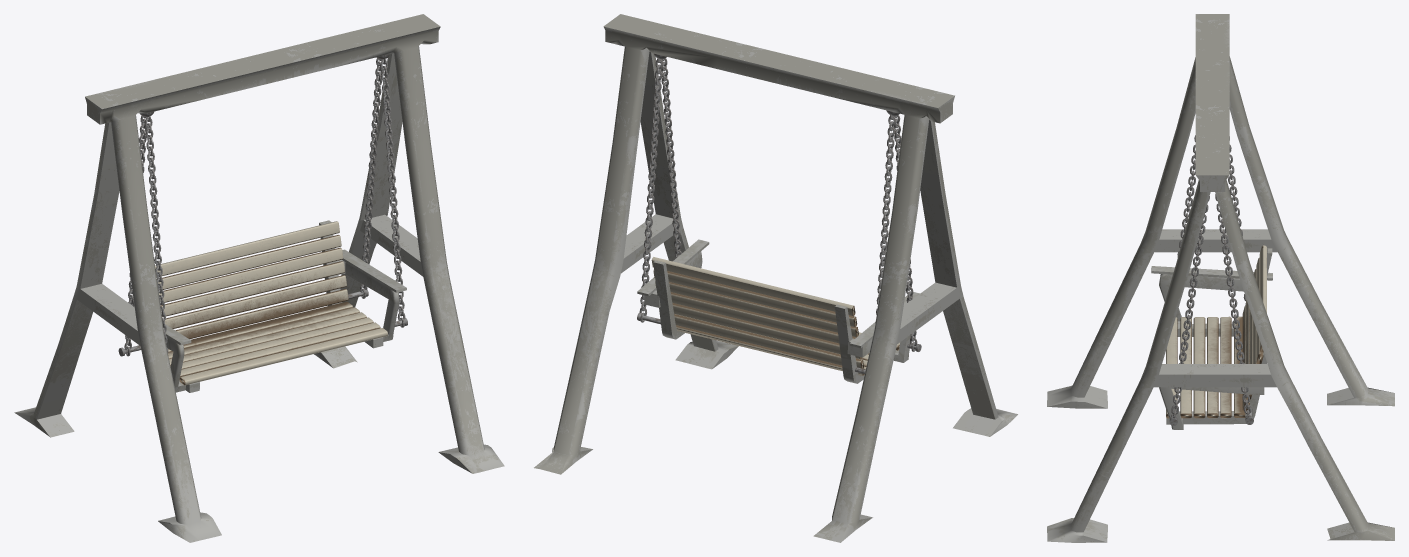
Rendered from swing1.glb.
The picture shows the model from 3 angles, left to right: view 1: azimuth 30°, elevation 25°; view 2: azimuth 150°, elevation 25°; view 3: azimuth 270°, elevation 25°; orthographic projection. The views are drawn at different scales.
Parts seen in each view (by area): view 1: stand, pCube9, pCube10, pCube12, pCube8, pCube11, pCube7, pCube6, right_arm, rightFrontchain, pCube5, rightBackchain (+6 smaller); view 2: stand, pCube12, pCube11, pCube7, pCube8, pCube9, pCube10, rightBackchain, rightFrontchain, right_frame, leftBackchain, left_frame (+4 smaller); view 3: stand, left_arm, rightBackchain, rightFrontchain, pCube4, right_arm, pCube3, pCube2, right_frame, pCube5, leftFrontchain, pCube1 (+2 smaller).
Part boxes in pixels (x1,y1,x2,y2): stand: (14, 14, 504, 542); pCube9: (160, 261, 344, 317); pCube10: (159, 247, 343, 302); pCube12: (155, 221, 339, 277); pCube8: (164, 275, 346, 328); pCube11: (158, 235, 341, 289); pCube7: (175, 289, 348, 339); pCube6: (179, 328, 387, 385); right_arm: (337, 249, 406, 341); rightFrontchain: (380, 58, 405, 327); pCube5: (180, 322, 380, 377); rightBackchain: (360, 58, 382, 298); stand: (534, 14, 1017, 542); pCube12: (651, 257, 855, 316); pCube11: (653, 270, 857, 327); pCube7: (674, 314, 863, 368); pCube8: (672, 303, 861, 359); pCube9: (670, 292, 856, 343); pCube10: (655, 280, 858, 337); rightBackchain: (639, 57, 662, 322); rightFrontchain: (660, 58, 681, 257); right_frame: (653, 260, 684, 339); leftBackchain: (875, 114, 895, 322); left_frame: (834, 304, 864, 383); stand: (1047, 14, 1394, 542); left_arm: (1151, 266, 1272, 323); rightBackchain: (1215, 194, 1251, 420); rightFrontchain: (1170, 196, 1209, 420); pCube4: (1193, 317, 1205, 418); right_arm: (1159, 387, 1264, 429); pCube3: (1207, 317, 1218, 418); pCube2: (1220, 316, 1231, 418); right_frame: (1166, 352, 1267, 424); pCube5: (1180, 317, 1191, 418); leftFrontchain: (1177, 135, 1195, 257); pCube1: (1234, 316, 1245, 417).
Size of the model in its own units: 0.332 by 0.3572 by 0.3024.
3 materials, 3 textured.
